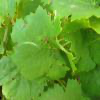grape leaf black rot: (11, 7, 67, 82)
